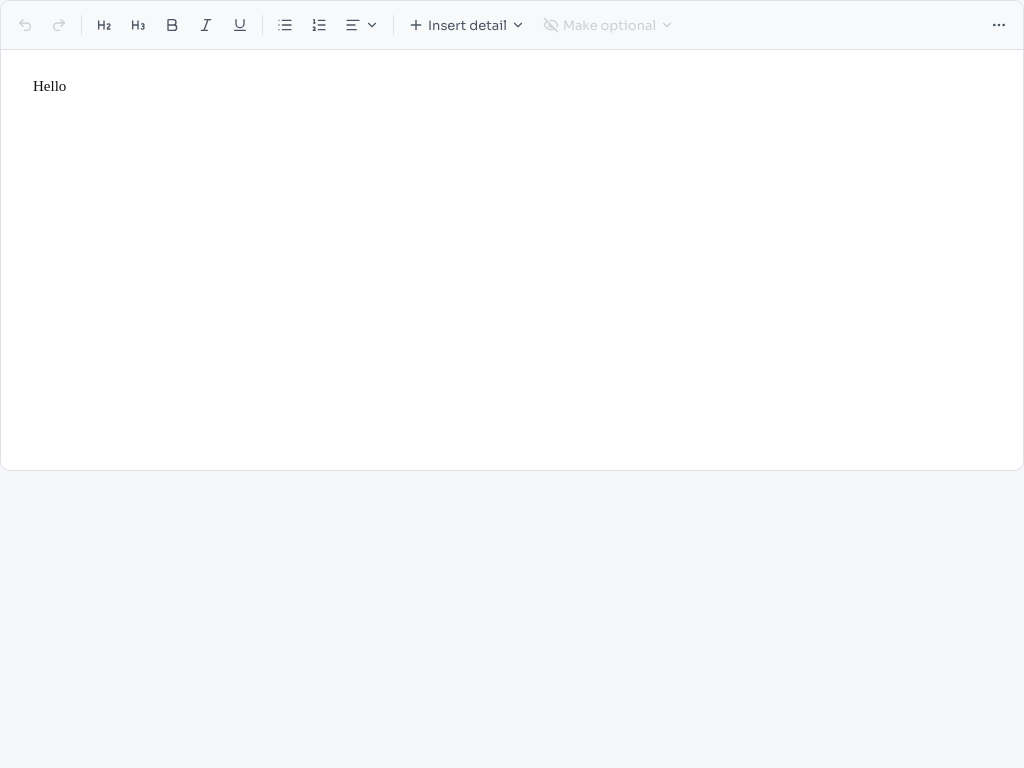
renders the Insert detail picker and More options menu inside the design-token scope
Check: the text box "Hello" is shown, box [33,78,66,94]
Click the button "Insert detail".
click(466, 25)  # box [400,9,533,41]
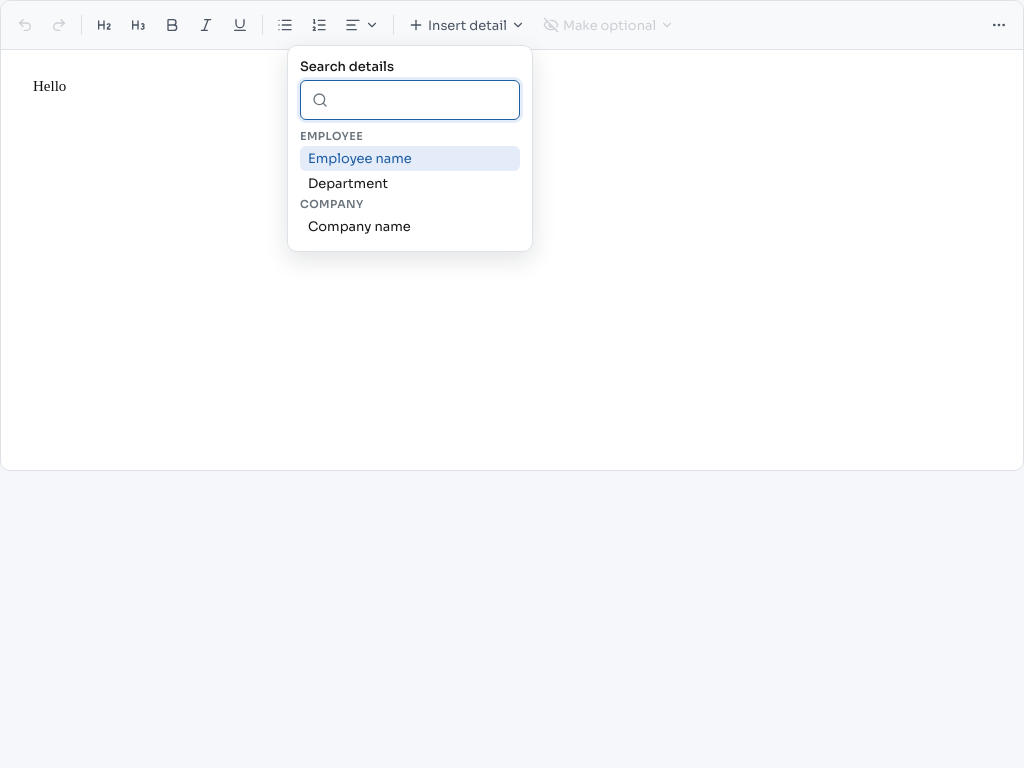
Check: the element named "Insert detail" is shown, box [287,45,533,252]
Press Escape
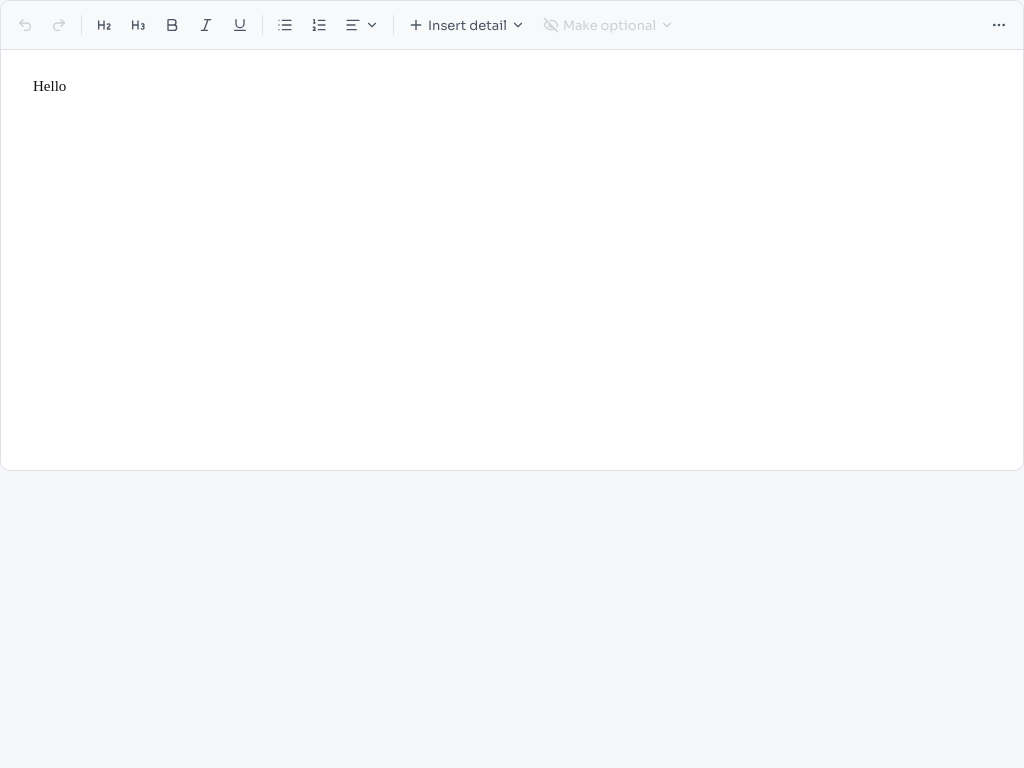
Click the button named "More options".
click(999, 25)  # box [983,9,1015,41]
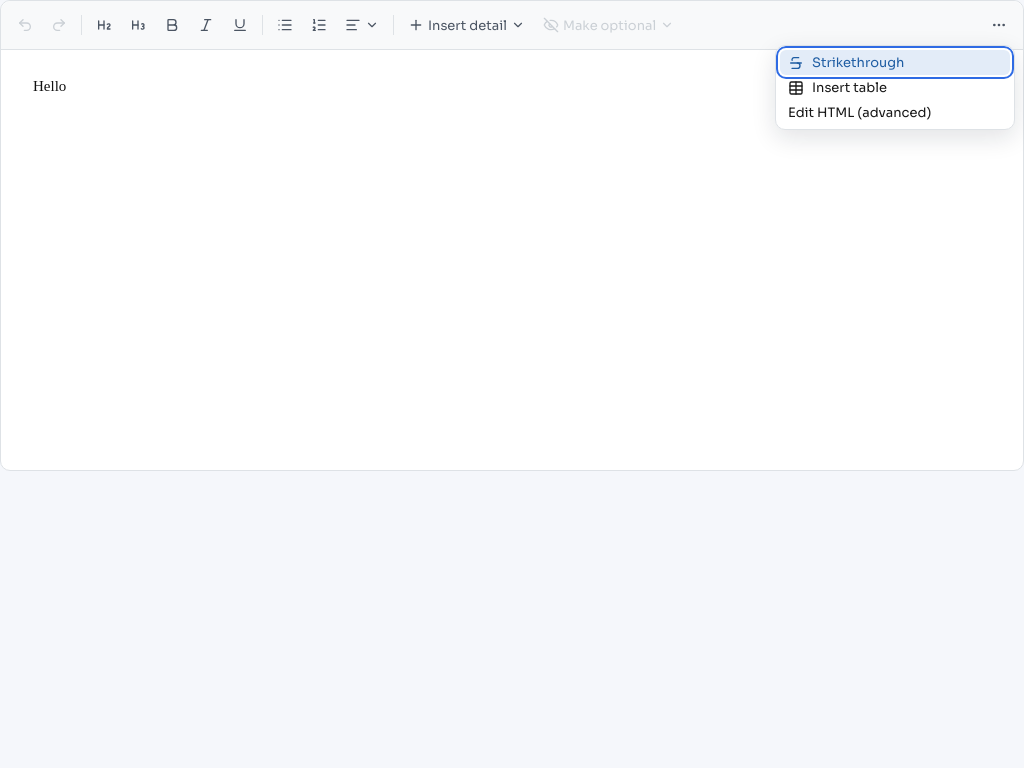
Check: the element named "More options" is shown, box [775,45,1015,130]
